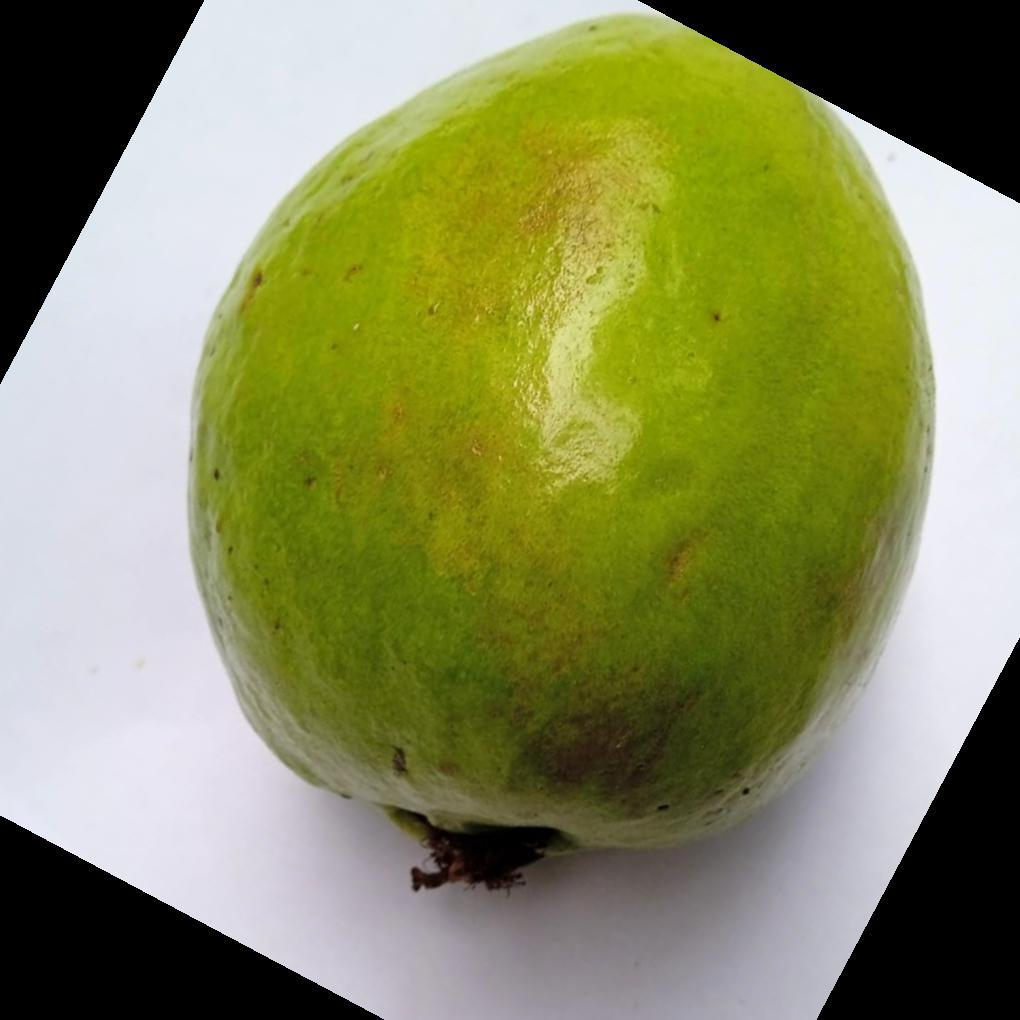FreshGuava: (185, 8, 937, 893)
